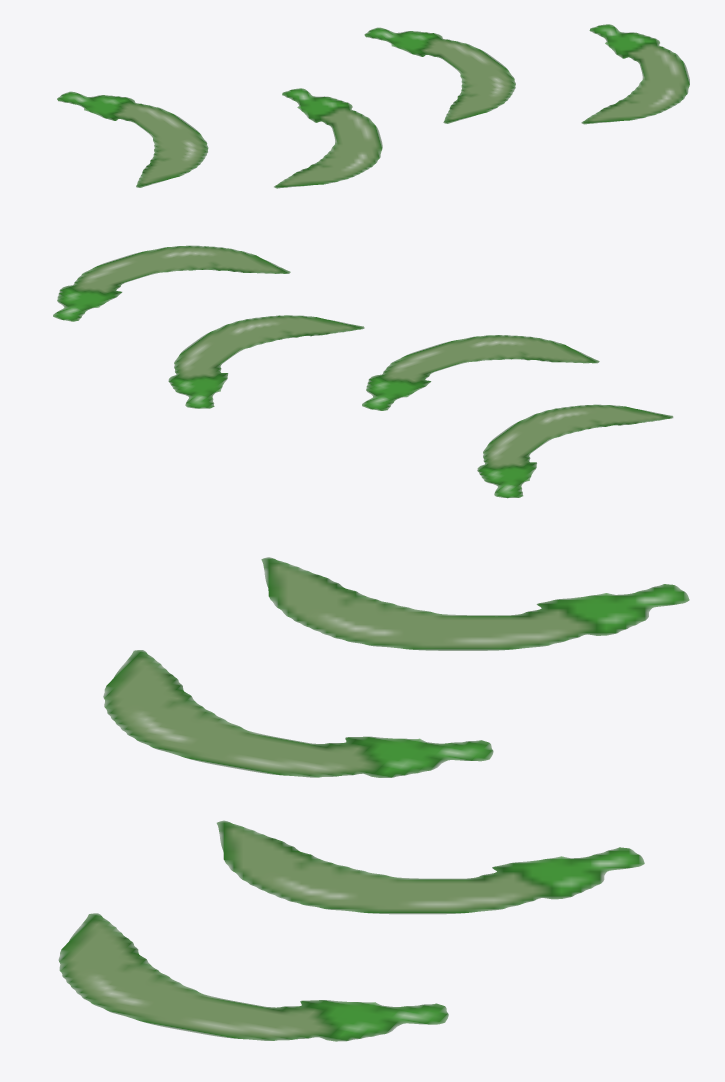
The model's file is giftgoods111d.fbx.
3 renders of one model, top to bottom at view 1: azimuth 30°, elevation 25°; view 2: azimuth 150°, elevation 25°; view 3: azimuth 270°, elevation 25°, orthographic. The views are drawn at different scales.
Visible parts, largest first — view 1: giftgoods111d; view 2: giftgoods111d; view 3: giftgoods111d.
Boxes of the visible parts, box(x1,y1,x2,y2) form: giftgoods111d: box(57, 24, 689, 188); giftgoods111d: box(53, 245, 673, 498); giftgoods111d: box(58, 557, 689, 1041).
Bounding box in the file's own units: 0.7469 × 0.00117 × 0.4182.
